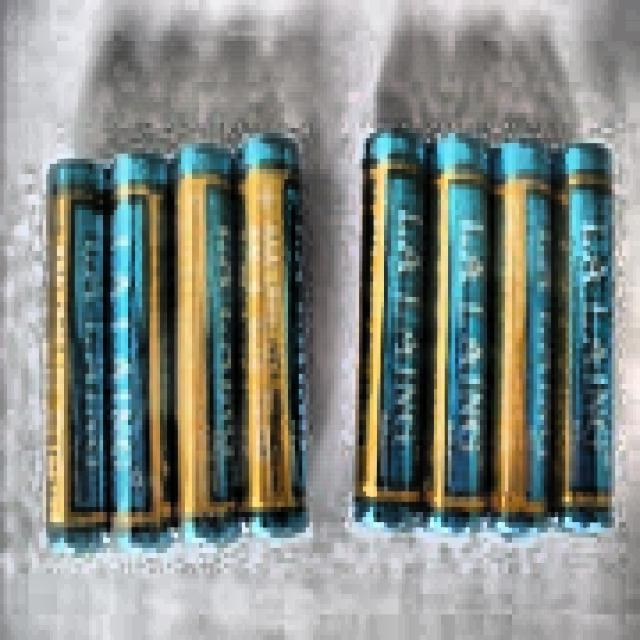Non-Valuable Waste - Batteries: (236, 135, 305, 532), (356, 130, 425, 524), (424, 133, 489, 526), (174, 144, 238, 537), (108, 153, 171, 544), (48, 160, 108, 548), (491, 140, 551, 526), (552, 144, 612, 527)
